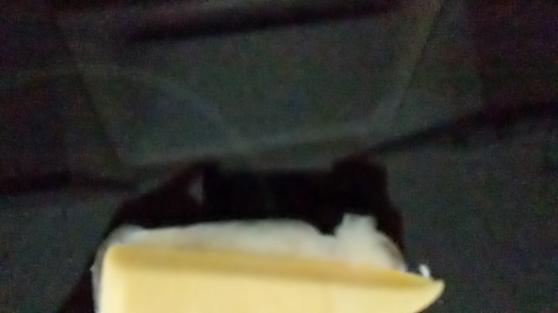cheese: (90, 220, 464, 313)
